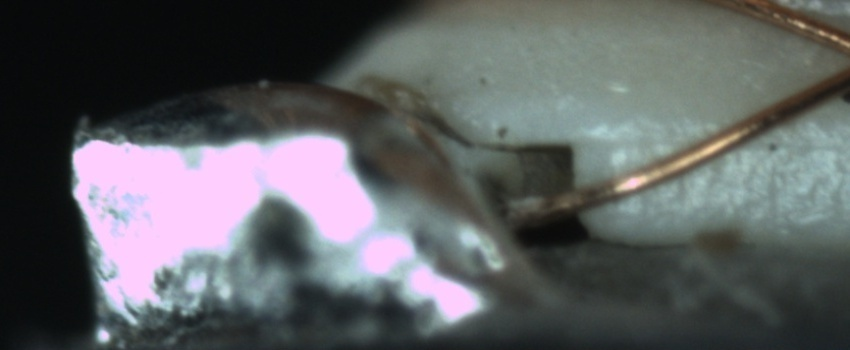DL: (610, 107, 850, 172)
